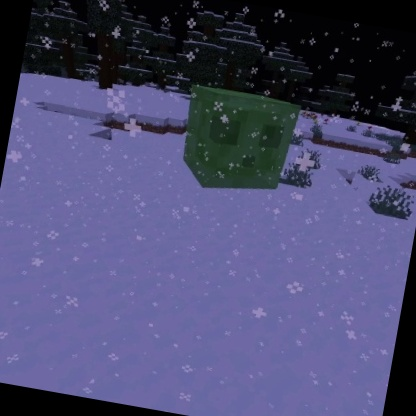slime: (170, 78, 305, 206)
